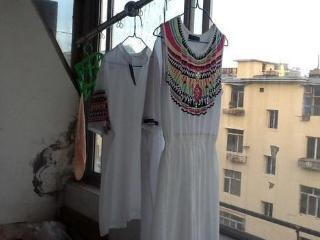short sleeve top: (86, 43, 165, 237)
vest: (151, 14, 225, 239)
